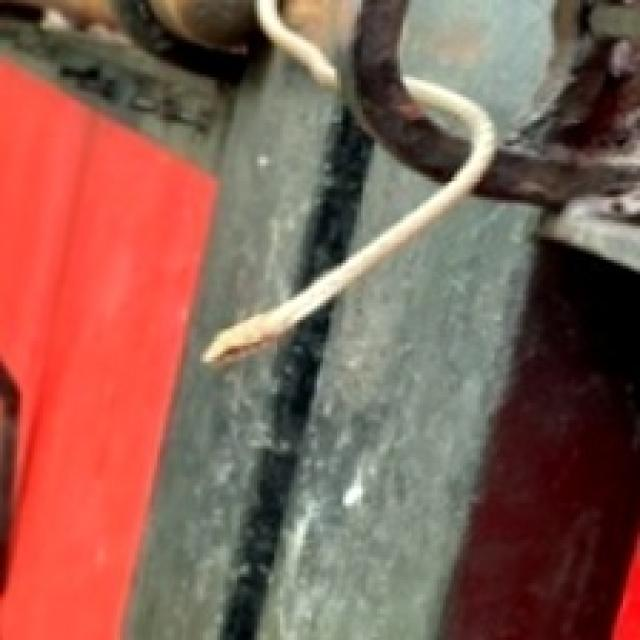philippine whip snake: (201, 80, 498, 367), (256, 0, 340, 88)
